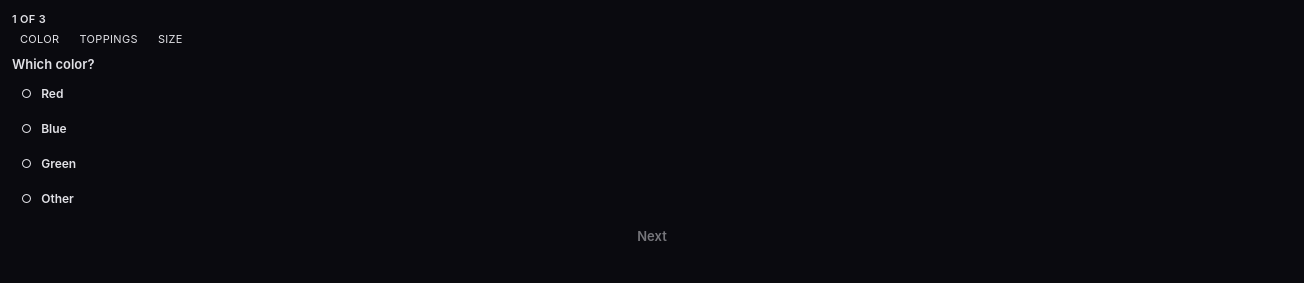
QuestionWizard errors › a 409 with nothing typed reads the state once and says nothing was typed
This screenshot has width=1304, height=283.
Click the radio button labelled "○ Red" at (27, 94), box 12,78 -> 1292,109
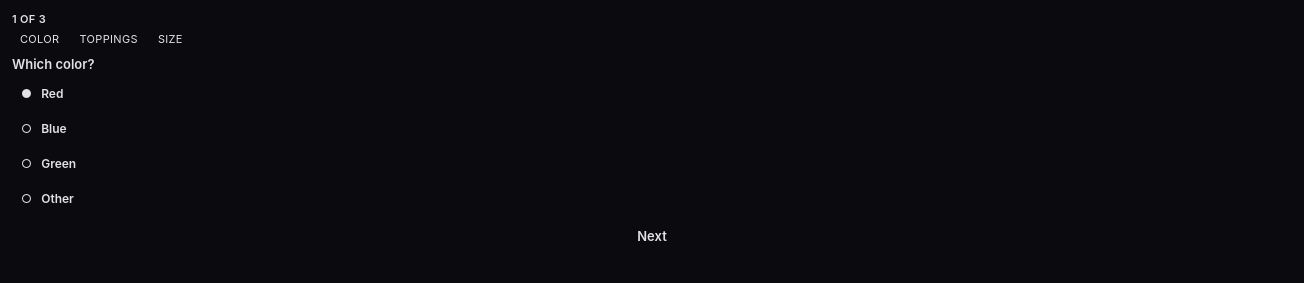
Click the button "Next" at (652, 236), box 12,228 -> 1292,244
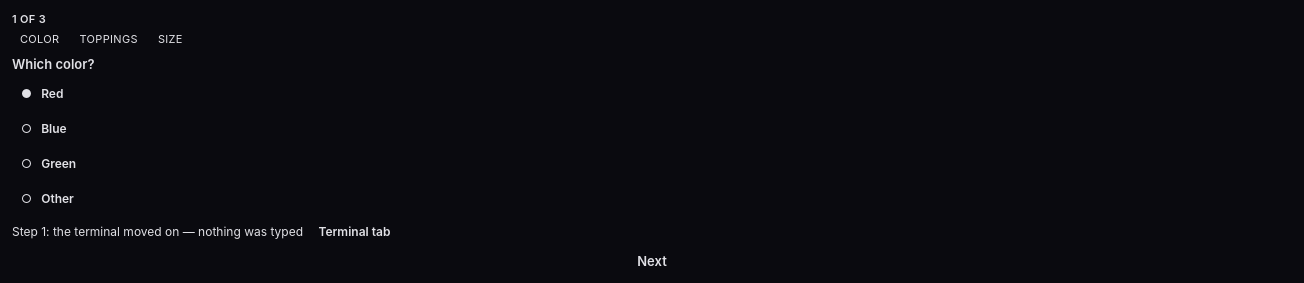
Check: the text "Step 1: the terminal moved on — nothing was typed" is shown, box 12,224 -> 303,239
